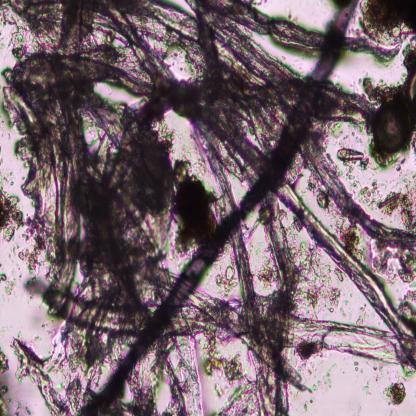Background material: (0, 1, 172, 333), (10, 336, 71, 416), (290, 240, 345, 317), (357, 0, 416, 48), (376, 170, 416, 234), (20, 212, 55, 276), (201, 340, 246, 388), (251, 249, 282, 291), (0, 192, 27, 240), (333, 146, 370, 178), (213, 260, 242, 296), (384, 383, 409, 407), (355, 182, 379, 206), (0, 266, 15, 296), (311, 373, 332, 391), (313, 189, 331, 209), (0, 349, 9, 377)
Cellulose filter fibre: (222, 296, 416, 370), (212, 1, 324, 57), (36, 281, 148, 337)
Cotton: (86, 0, 359, 416)
Diatom: (373, 98, 411, 154), (408, 71, 416, 108)
